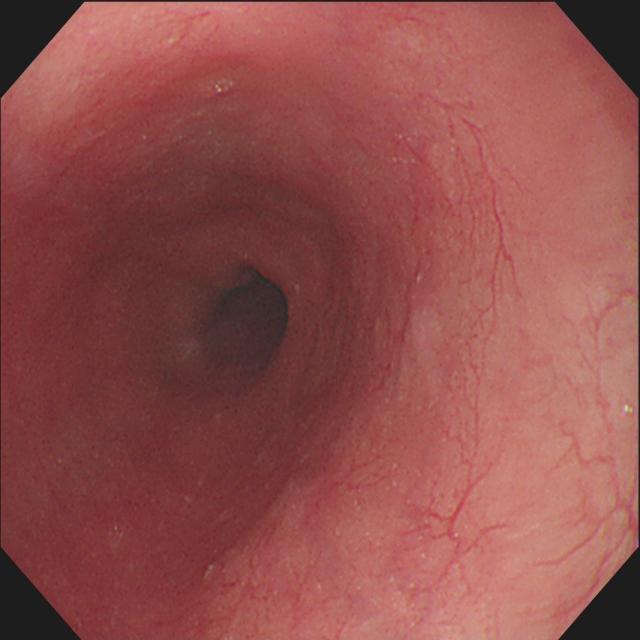E: (197, 262, 293, 383)
